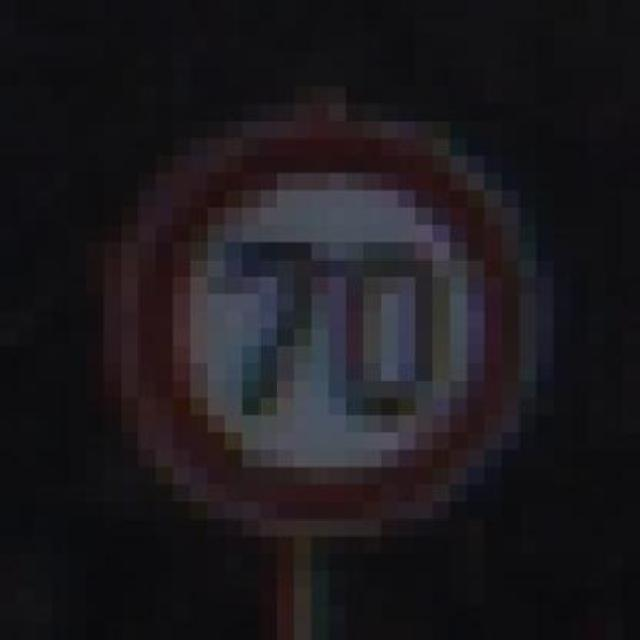forb_speed_over_70: (144, 126, 519, 520)
